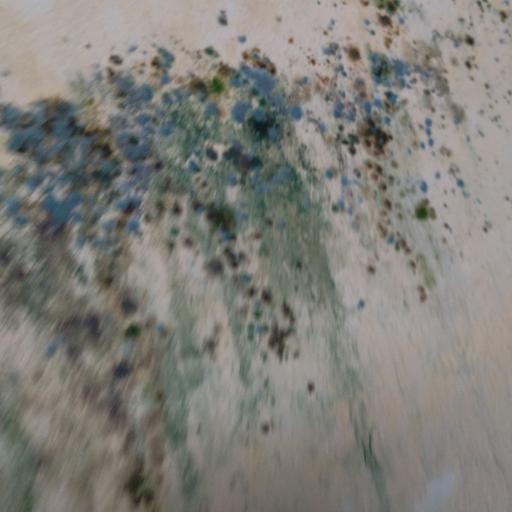algae: (2, 41, 419, 379)
